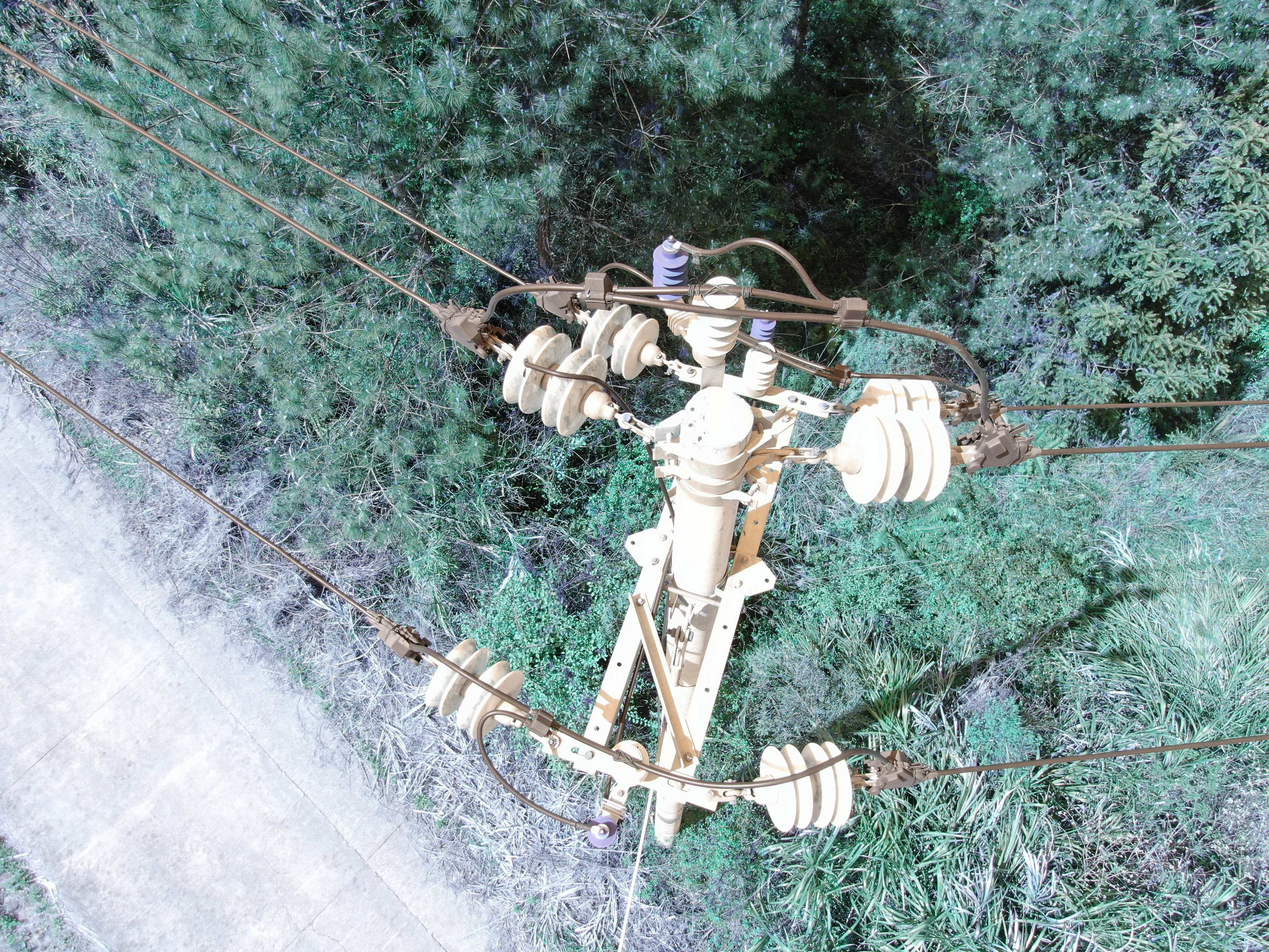severe_soiling_no_discharge_whole: (502, 323, 621, 437), (422, 639, 529, 740), (577, 305, 666, 381)
